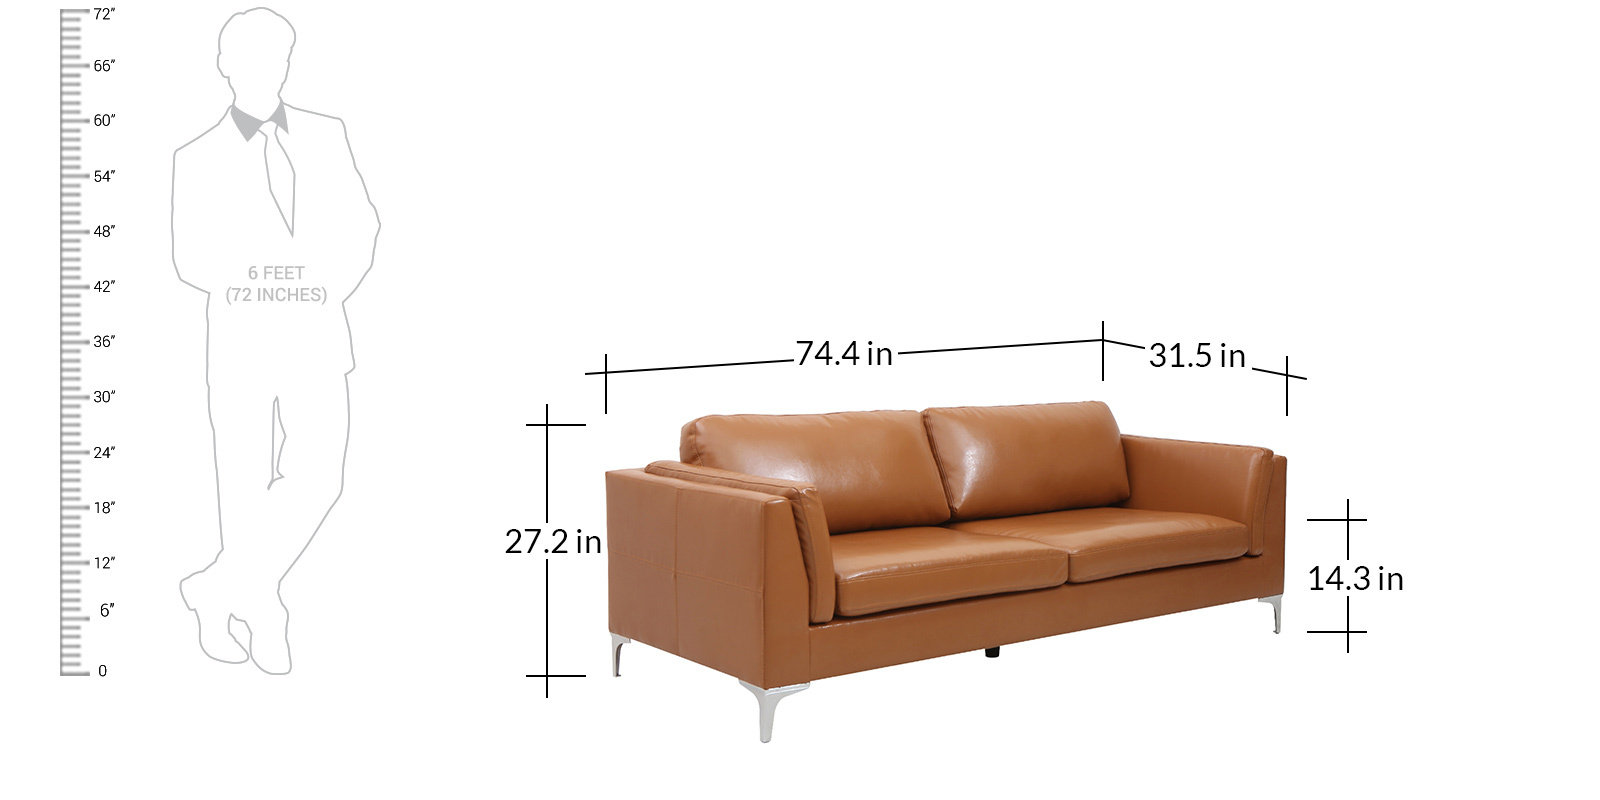Forma Three Seater Sofa in Camel Colour by Zofa: (586, 403, 1337, 747)
